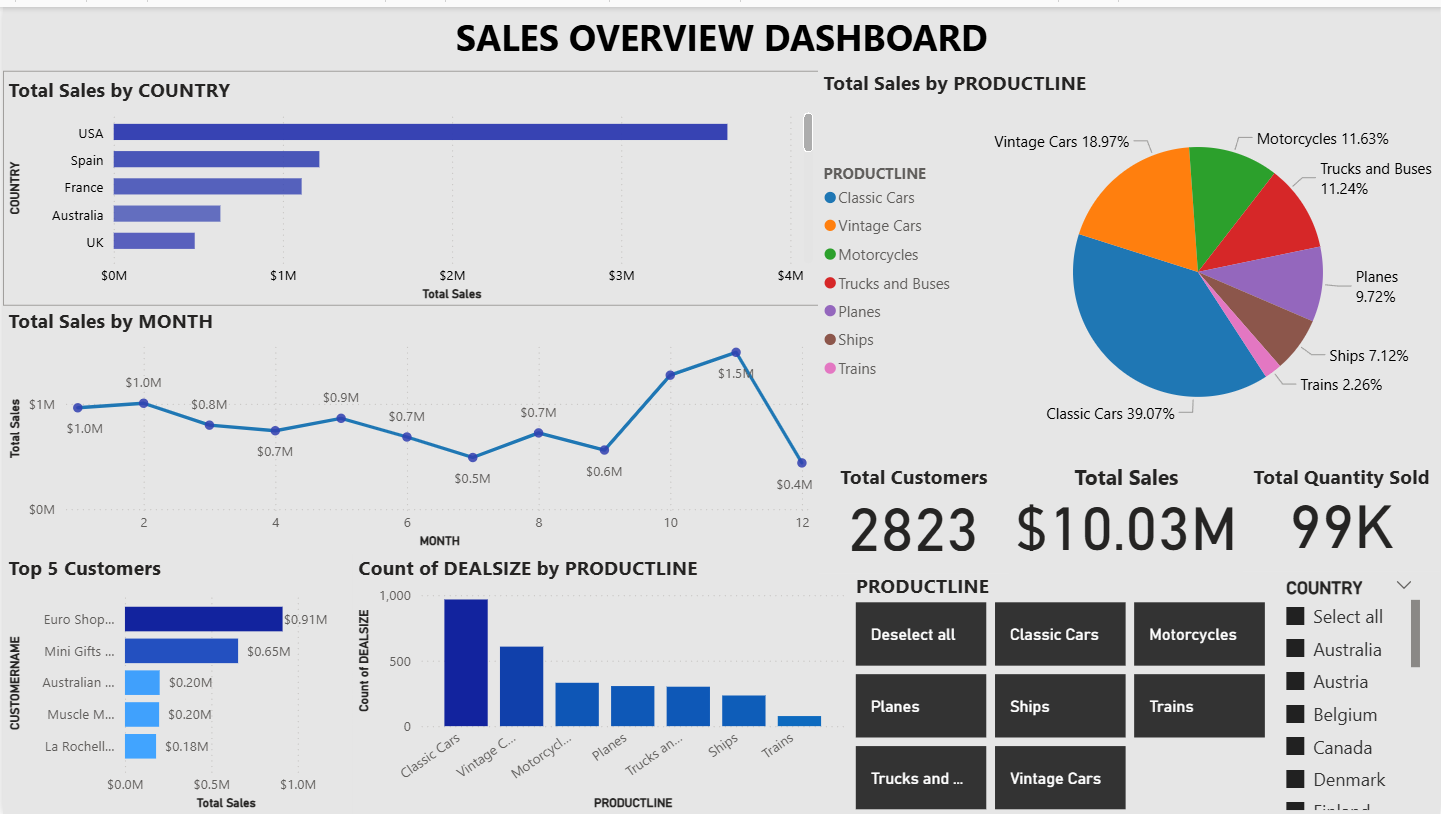

This screenshot's page, from the dashboard's own definition file:
{"tool":"powerbi","page":{"name":"Sales_Overview","canvas":[1280,720],"ordinal":0},"visuals":[{"type":"clusteredBarChart","fields":{"Category":["sales_data_sample.COUNTRY"],"Y":["sales_data_sample.Total Sales"]},"box":[0,56.4,726.4,210],"z":0},{"type":"lineChart","fields":{"Y":["sales_data_sample.Total Sales"],"Category":["sales_data_sample.MONTH"]},"box":[0,266.7,726.7,220],"z":1000},{"type":"pieChart","fields":{"Category":["sales_data_sample.PRODUCTLINE"],"Y":["sales_data_sample.Total Sales"]},"box":[725.7,55.7,554.3,338.6],"z":2000},{"type":"card","title":"Total Sales","fields":{"Values":["sales_data_sample.Total Sales"]},"box":[895.7,394.3,208.6,110],"z":3000},{"type":"card","title":"Total Quantity Sold","fields":{"Values":["Sum(sales_data_sample.QUANTITYORDERED)"]},"box":[1104.3,394.3,175.7,108.6],"z":4000},{"type":"slicer","fields":{"Values":["sales_data_sample.COUNTRY"]},"box":[1130,502.9,137.1,217.1],"z":5000},{"type":"advancedSlicerVisual","fields":{"Values":["sales_data_sample.PRODUCTLINE"]},"box":[754.3,502.9,375.7,217.1],"z":6000},{"type":"clusteredBarChart","title":"Top 5 Customers","fields":{"Category":["sales_data_sample.CUSTOMERNAME"],"Y":["sales_data_sample.Total Sales"]},"box":[0,487.1,311.4,232.9],"z":7000},{"type":"columnChart","fields":{"Category":["sales_data_sample.PRODUCTLINE"],"Y":["CountNonNull(sales_data_sample.DEALSIZE)"]},"box":[311.4,487.1,442.9,232.9],"z":8000},{"type":"textbox","box":[0,0,1280,56.4],"z":9000},{"type":"card","title":"Total Customers","fields":{"Values":["CountNonNull(sales_data_sample.CUSTOMERNAME)"]},"box":[727.1,394.3,168.6,110],"z":10000}]}

Visuals, with their boxes in screenshot pixels (x1, y1, x2, y2), scaled from the page's 1280x720 canvas onto the 1441x814 screenshot:
clusteredBarChart - sales_data_sample.COUNTRY x sales_data_sample.Total Sales: <region>0, 64, 818, 301</region>
lineChart - sales_data_sample.Total Sales x sales_data_sample.MONTH: <region>0, 302, 818, 550</region>
pieChart - sales_data_sample.PRODUCTLINE x sales_data_sample.Total Sales: <region>817, 63, 1440, 446</region>
"Total Sales" card: <region>1008, 446, 1243, 570</region>
"Total Quantity Sold" card: <region>1243, 446, 1440, 569</region>
slicer - sales_data_sample.COUNTRY: <region>1272, 569, 1426, 813</region>
advancedSlicerVisual - sales_data_sample.PRODUCTLINE: <region>849, 569, 1272, 813</region>
"Top 5 Customers" clusteredBarChart: <region>0, 551, 351, 813</region>
columnChart - sales_data_sample.PRODUCTLINE x CountNonNull(sales_data_sample.DEALSIZE): <region>351, 551, 849, 813</region>
textbox: <region>0, 0, 1440, 64</region>
"Total Customers" card: <region>819, 446, 1008, 570</region>
